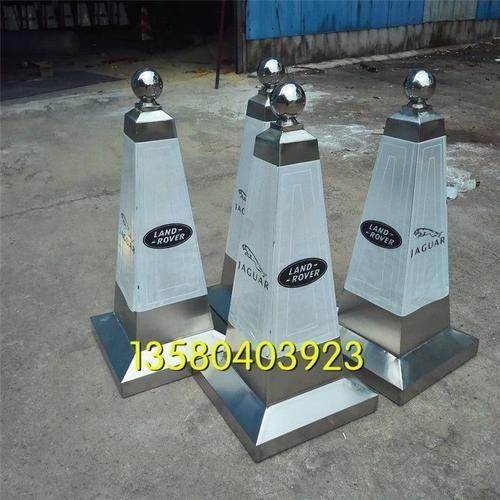cone_barrel: (210, 97, 353, 427), (335, 67, 473, 399), (91, 70, 226, 390)
